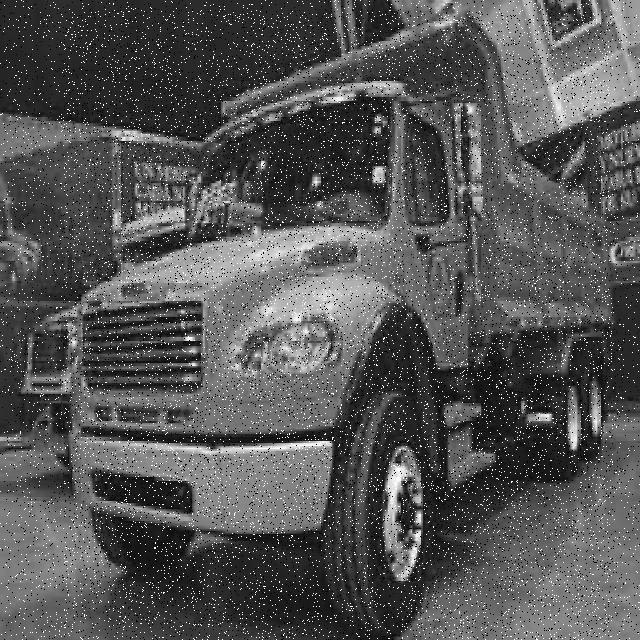Box Truck: (64, 11, 612, 640)
